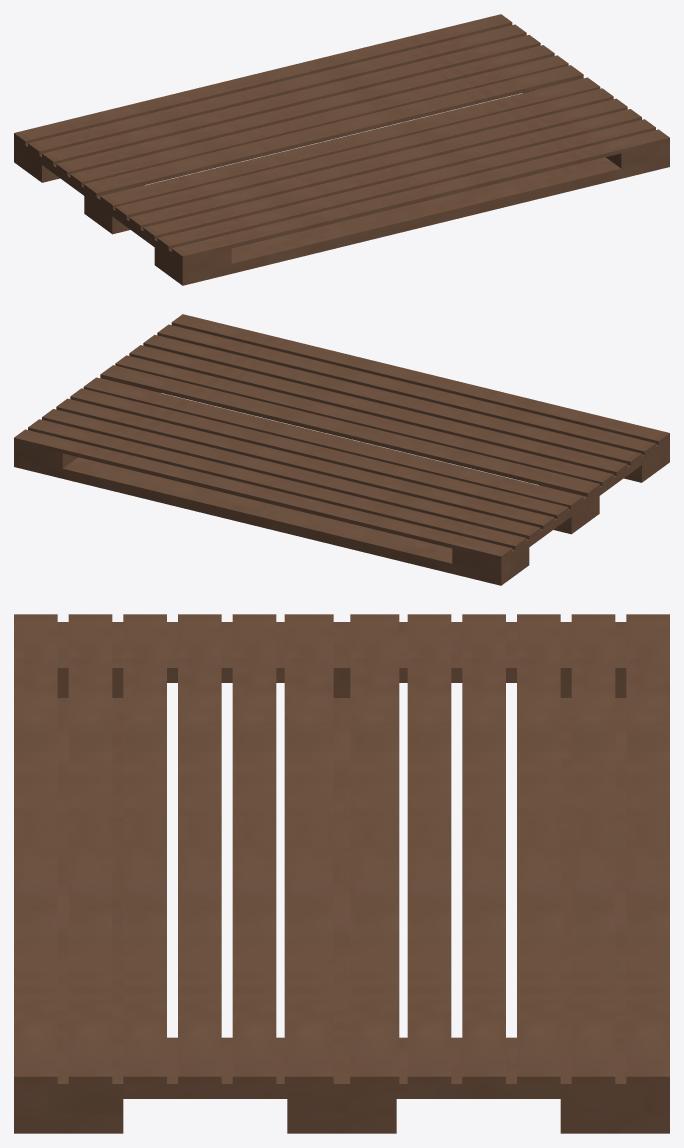
Rendered from palette_bois.glb.
3 renders of one model, top to bottom at view 1: azimuth 30°, elevation 25°; view 2: azimuth 150°, elevation 25°; view 3: azimuth 270°, elevation 25°, orthographic. The views are drawn at different scales.
Visible parts, largest first — view 1: Wooden_Pallet; view 2: Wooden_Pallet; view 3: Wooden_Pallet.
Boxes of the visible parts, x1,y1,x2,y2 form: Wooden_Pallet: [14, 14, 669, 285]; Wooden_Pallet: [14, 314, 669, 585]; Wooden_Pallet: [14, 614, 669, 1133].
Bounding box in the file's own units: 2 × 0.115 × 1.2.
1 material, 1 textured.
